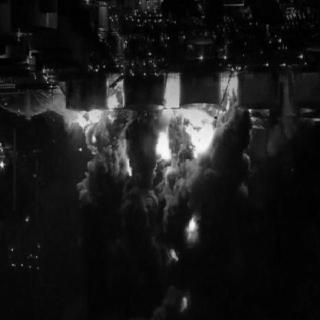Smoke: (57, 125, 205, 312), (211, 109, 260, 232)
